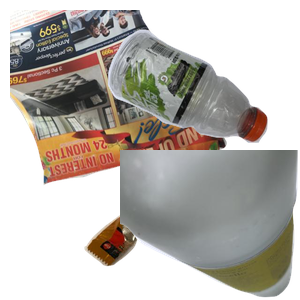glass: (120, 150, 300, 300)
paper: (10, 10, 230, 188)
plastic: (105, 27, 300, 162)
trash: (82, 151, 260, 300)
